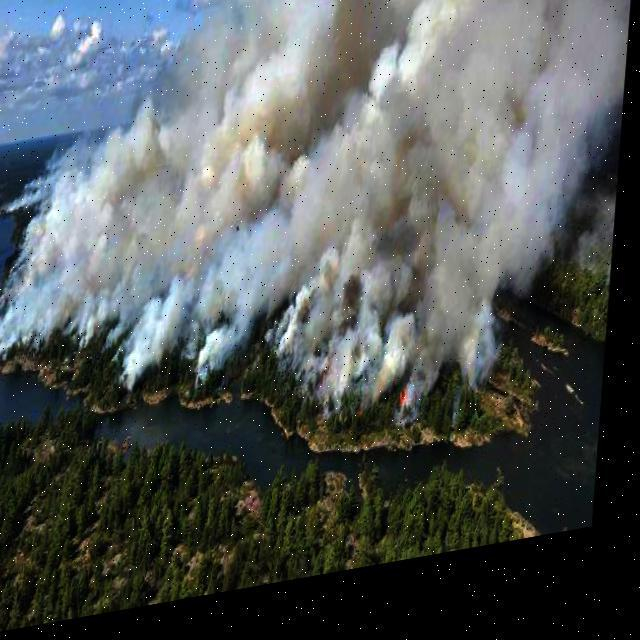Fire: (398, 391, 430, 442)
